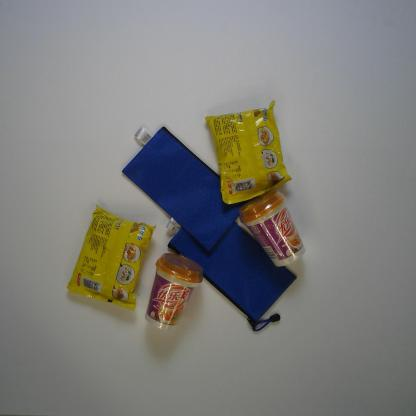Instant Drink: (238, 189, 307, 268), (144, 252, 204, 332)
Instant Noodles: (66, 204, 158, 312), (204, 99, 293, 206)
Stationery: (166, 212, 298, 332), (121, 126, 245, 252)
